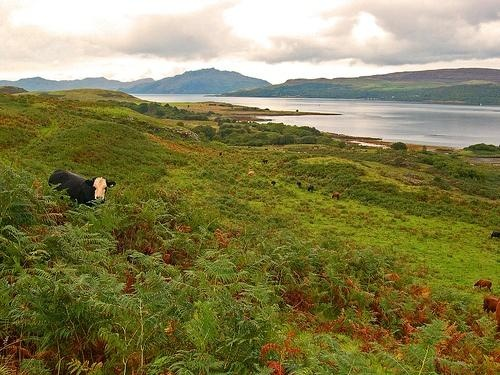cow: (50, 170, 118, 209)
